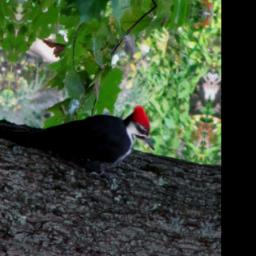Woodpecker: (0, 84, 162, 195)
